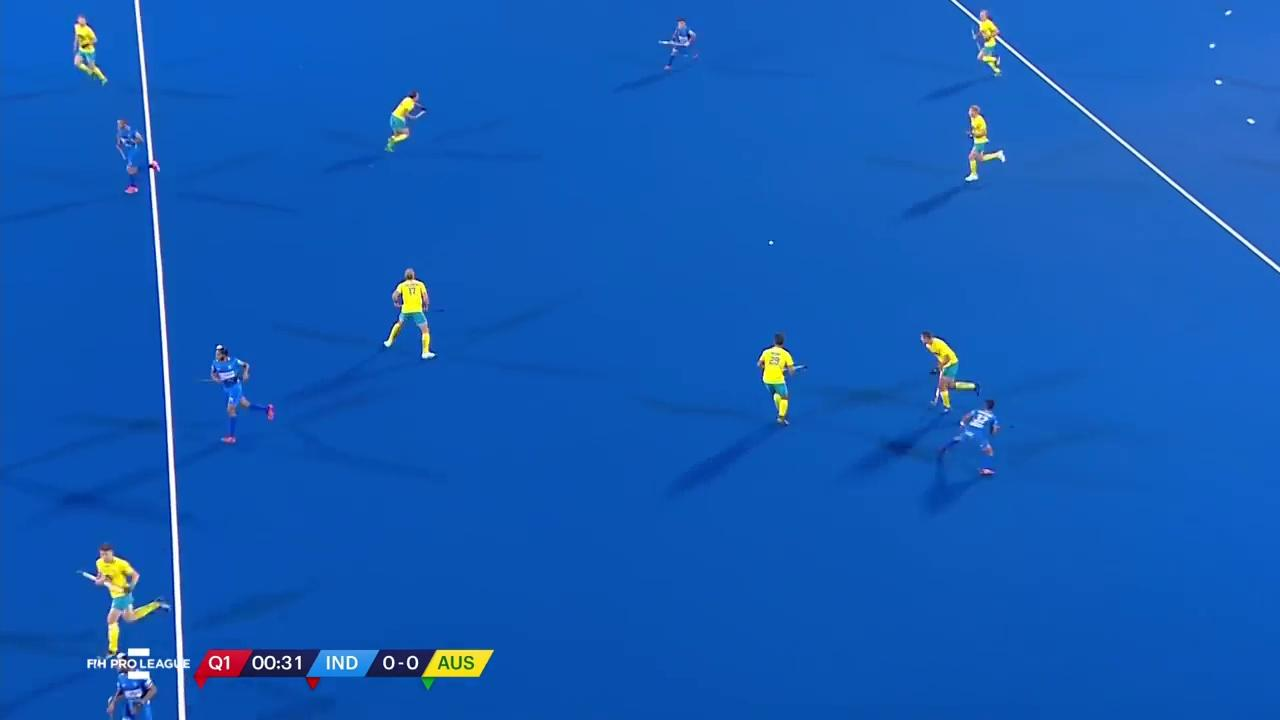ball: (765, 239, 778, 247)
